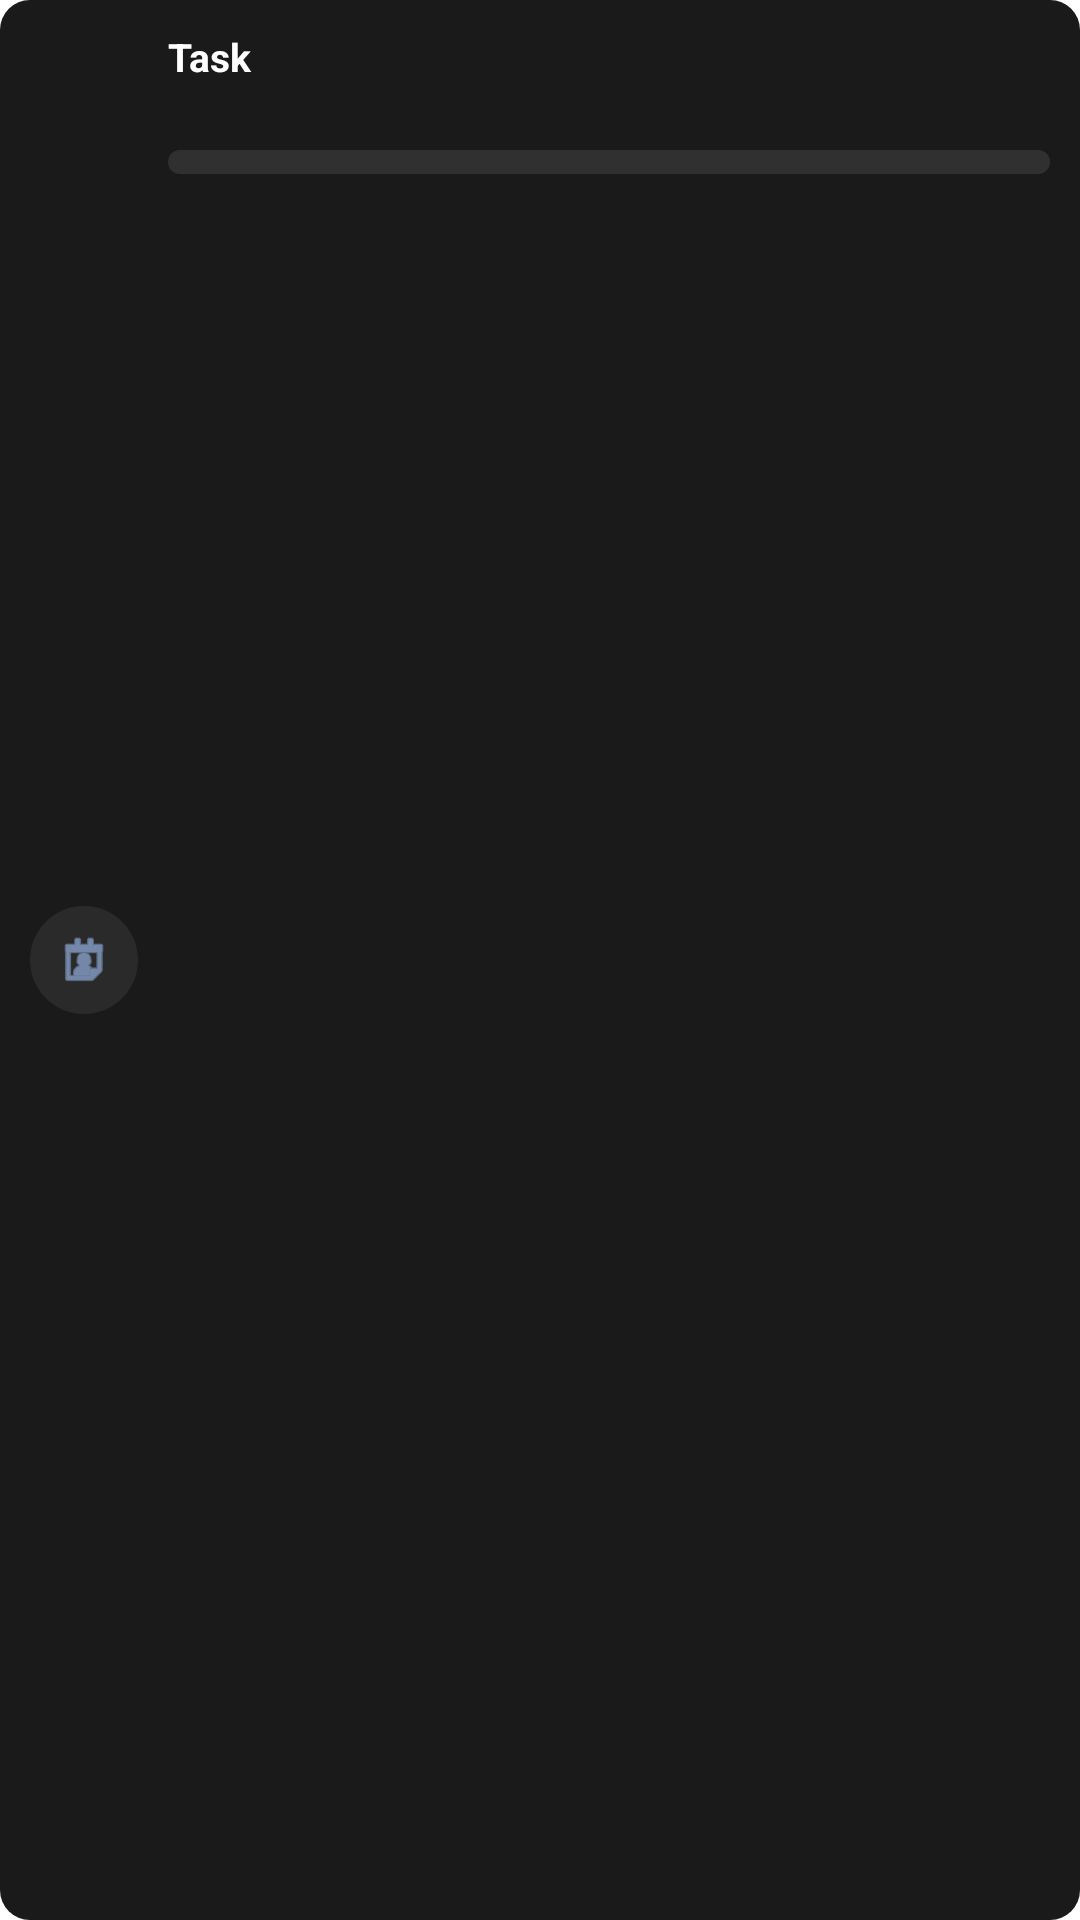

Icons on this 1080px x 1920px Android screen, each with the point to tap as point (x, y):
calendar: point (84, 959)
